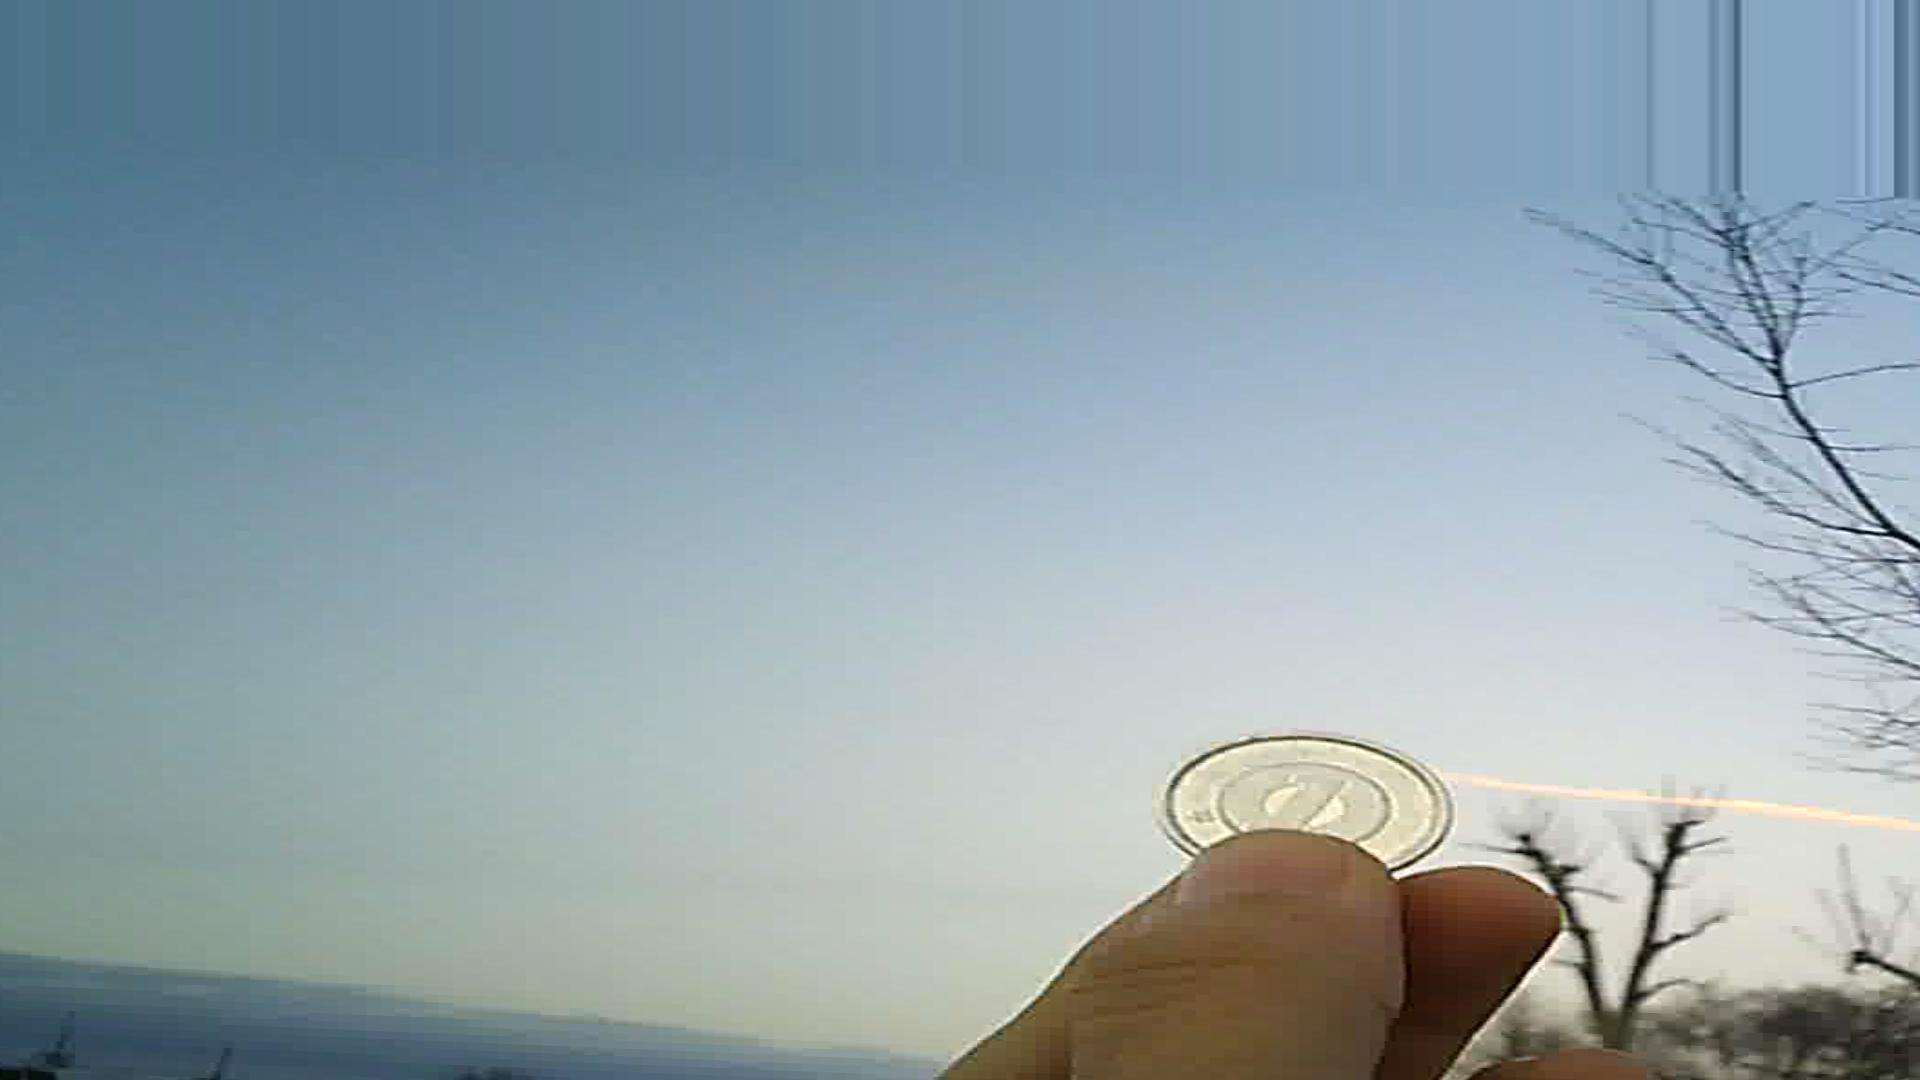1 Yen: (1142, 713, 1435, 891)
